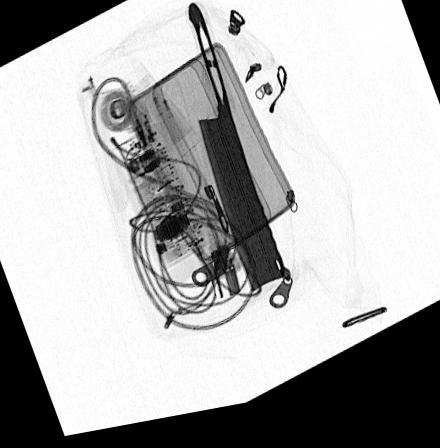Knife: (184, 7, 284, 304)
